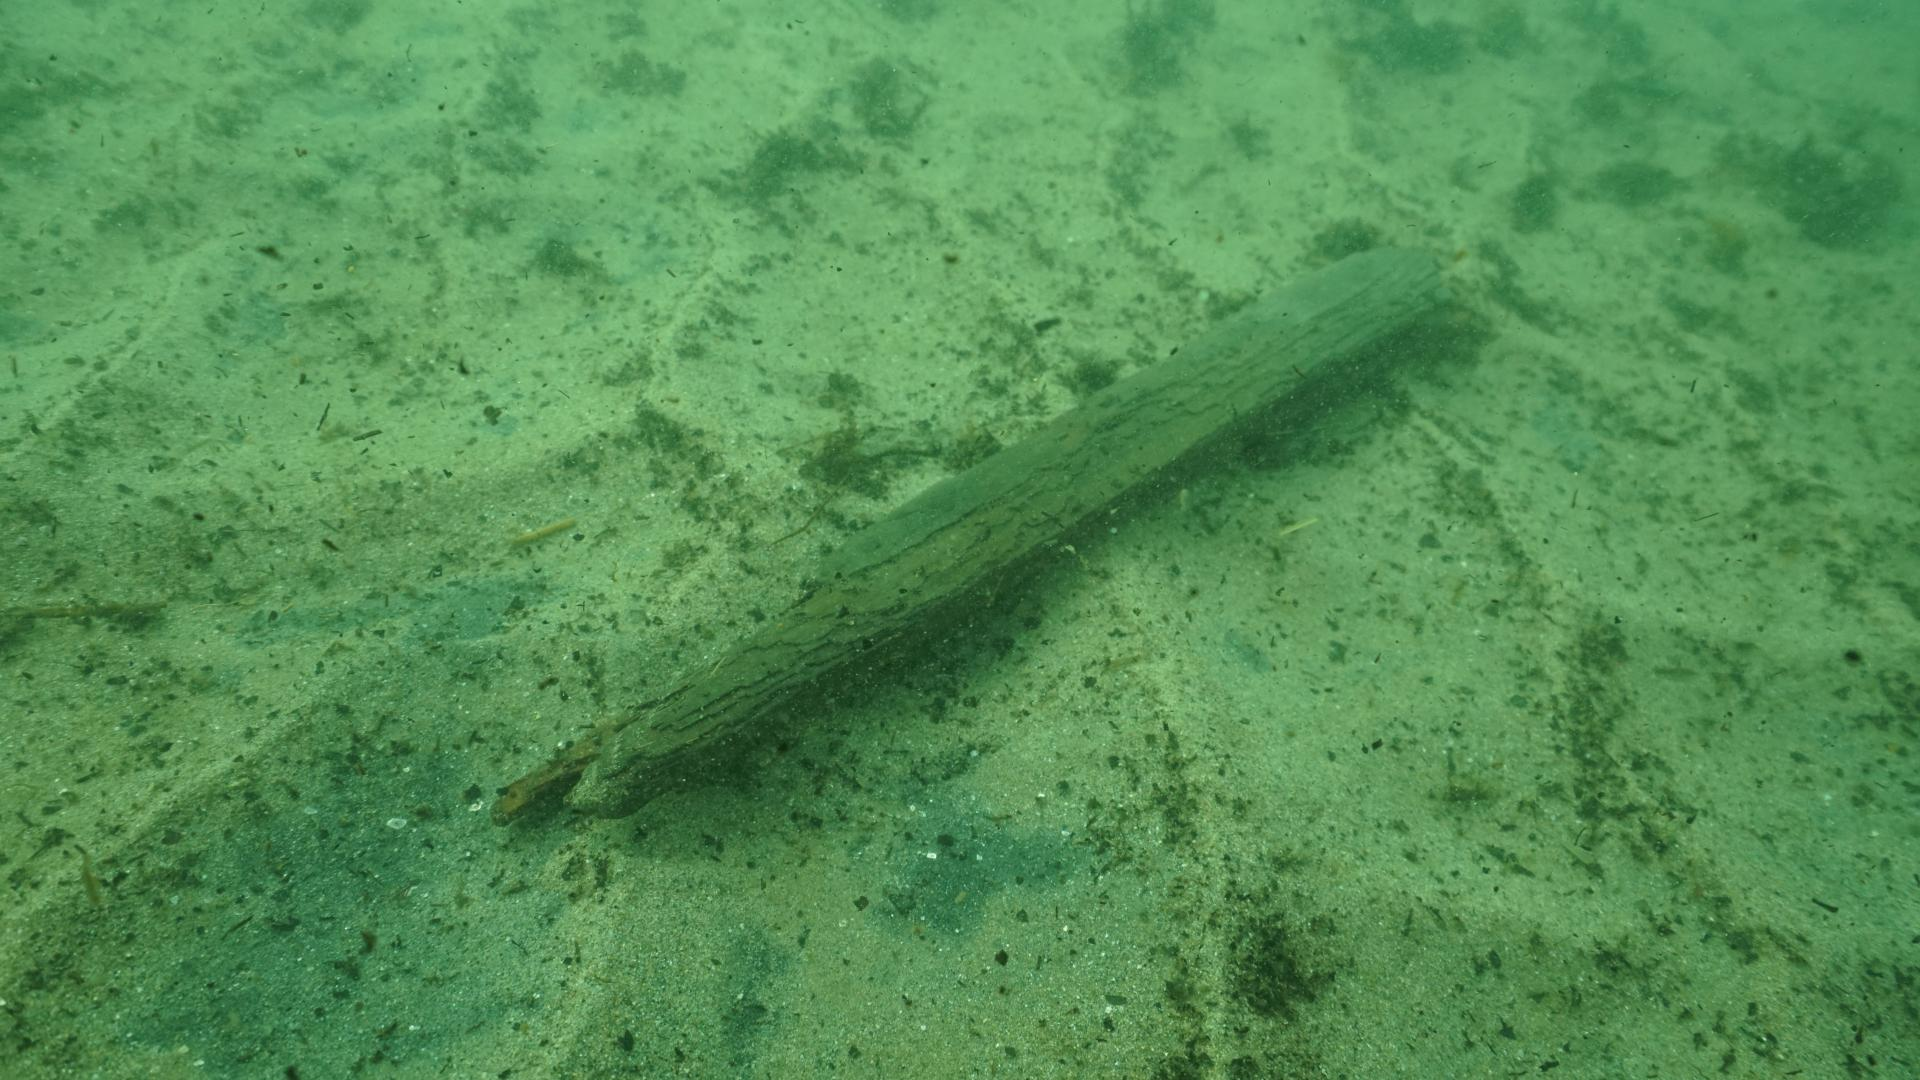wood: (485, 247, 1441, 832)
